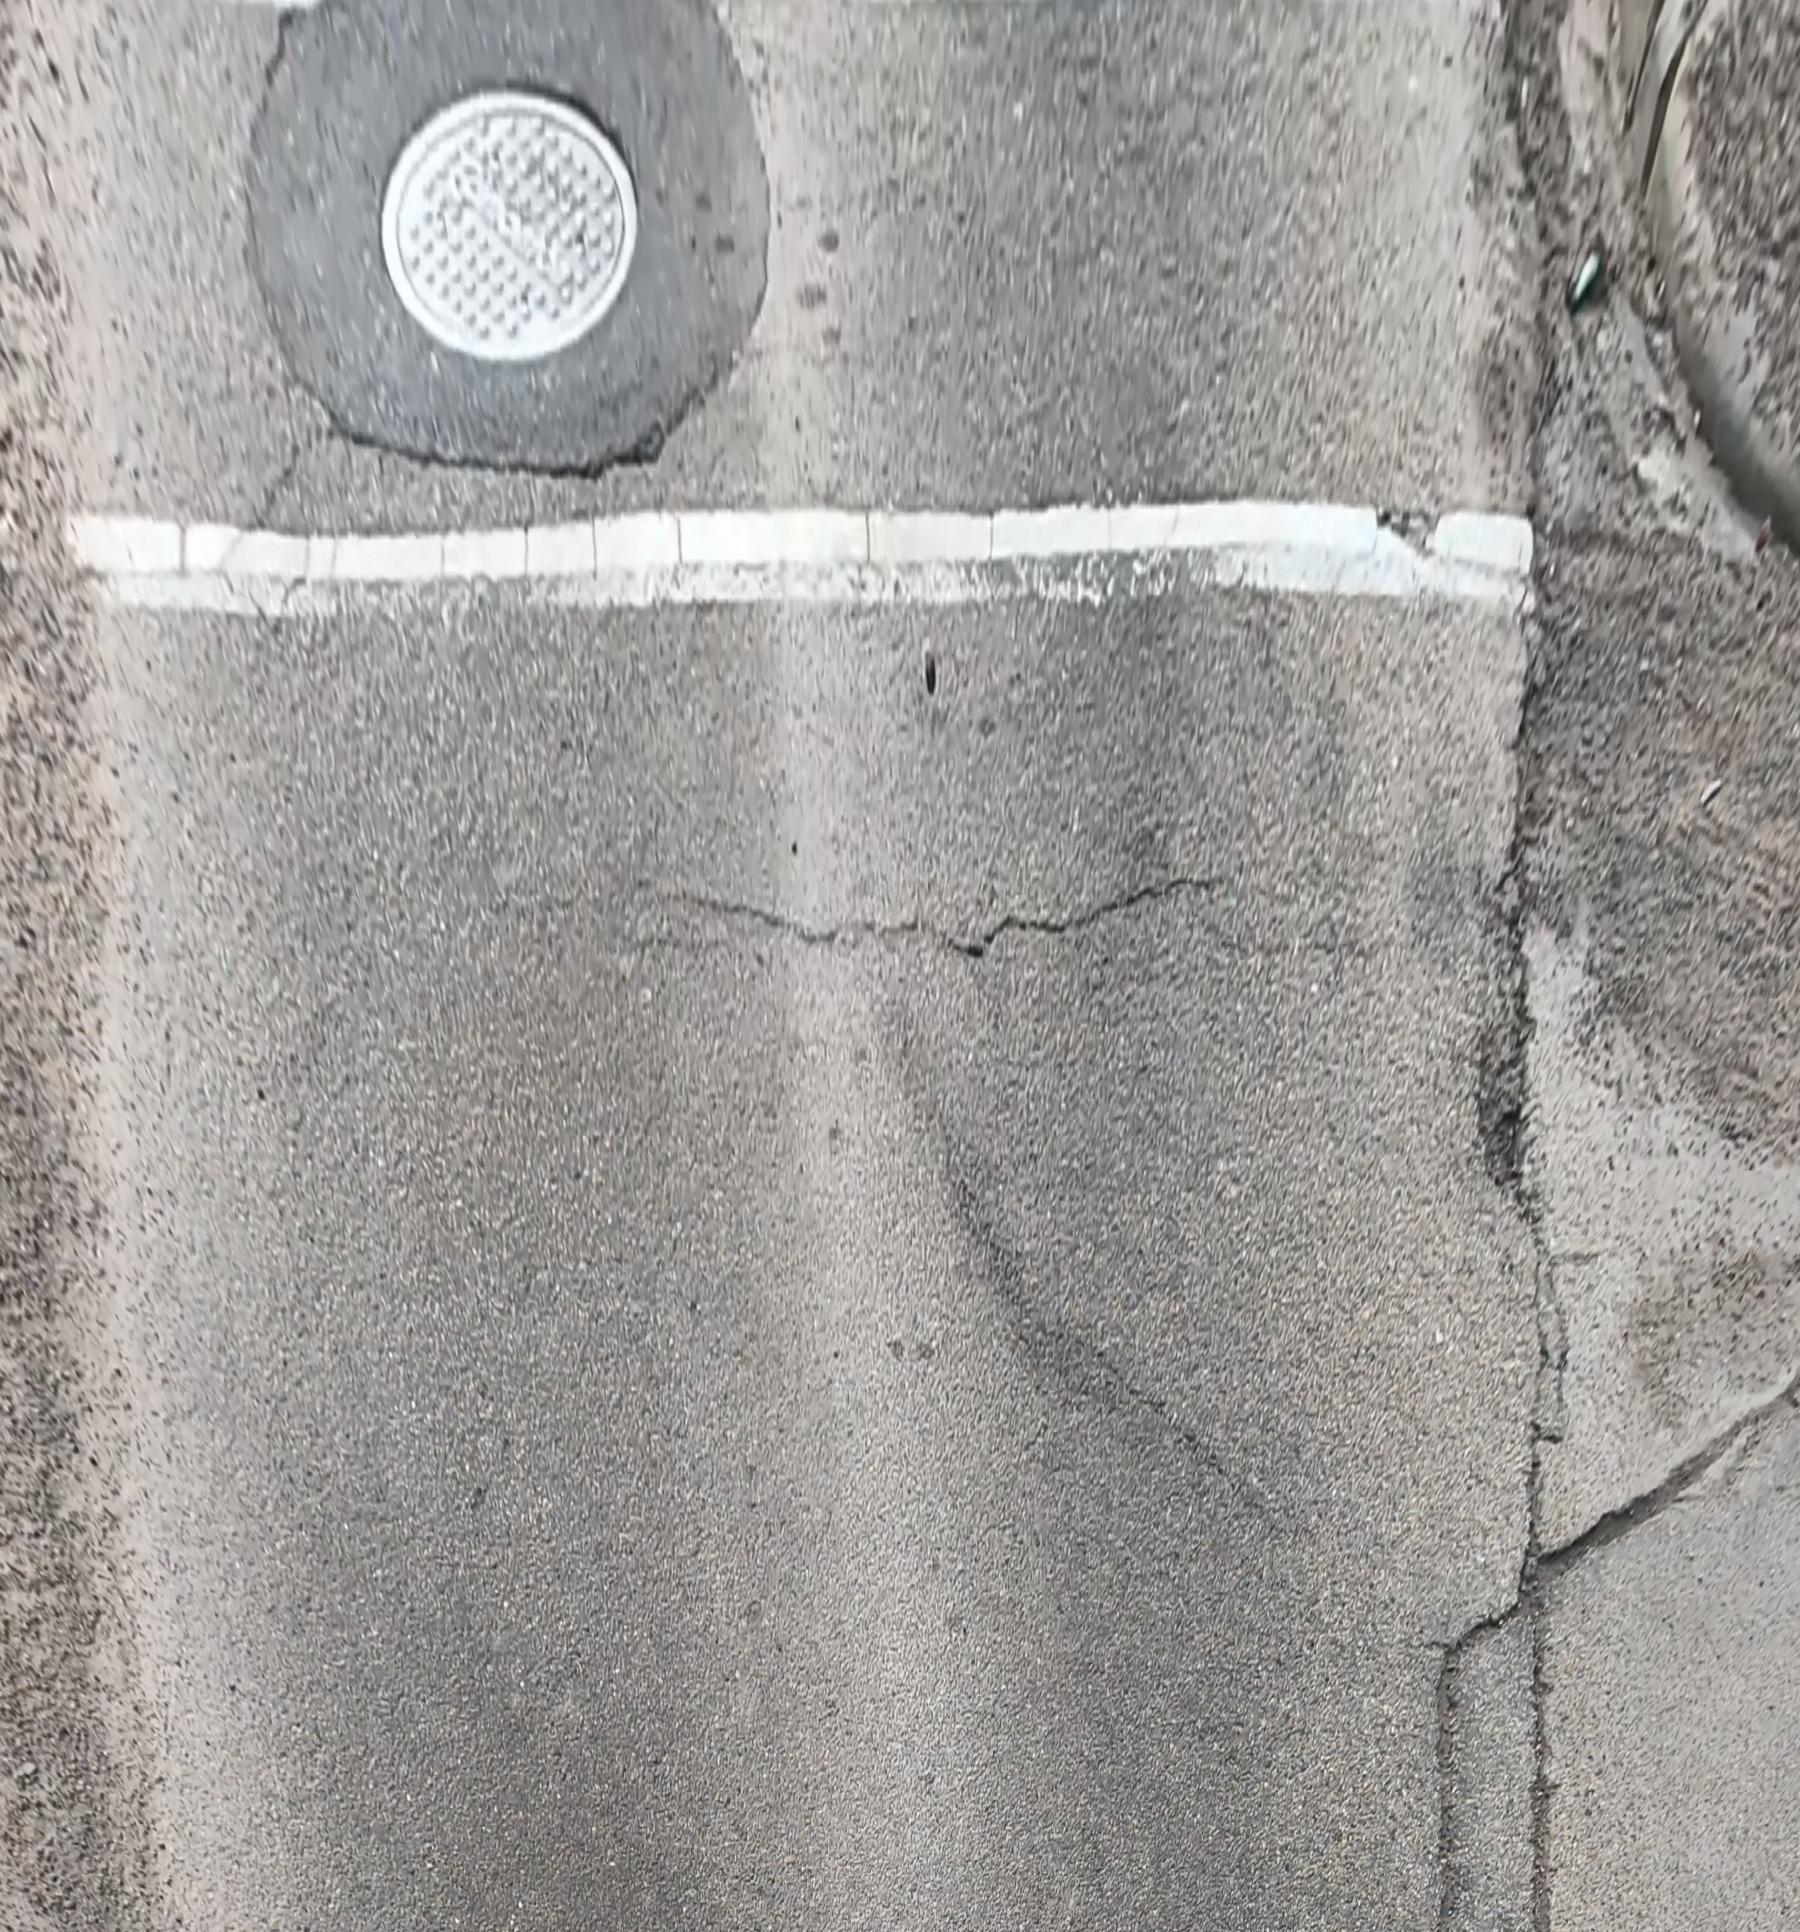pothole: (1484, 20, 1585, 232)
pothole_patch_good: (245, 0, 768, 472)
